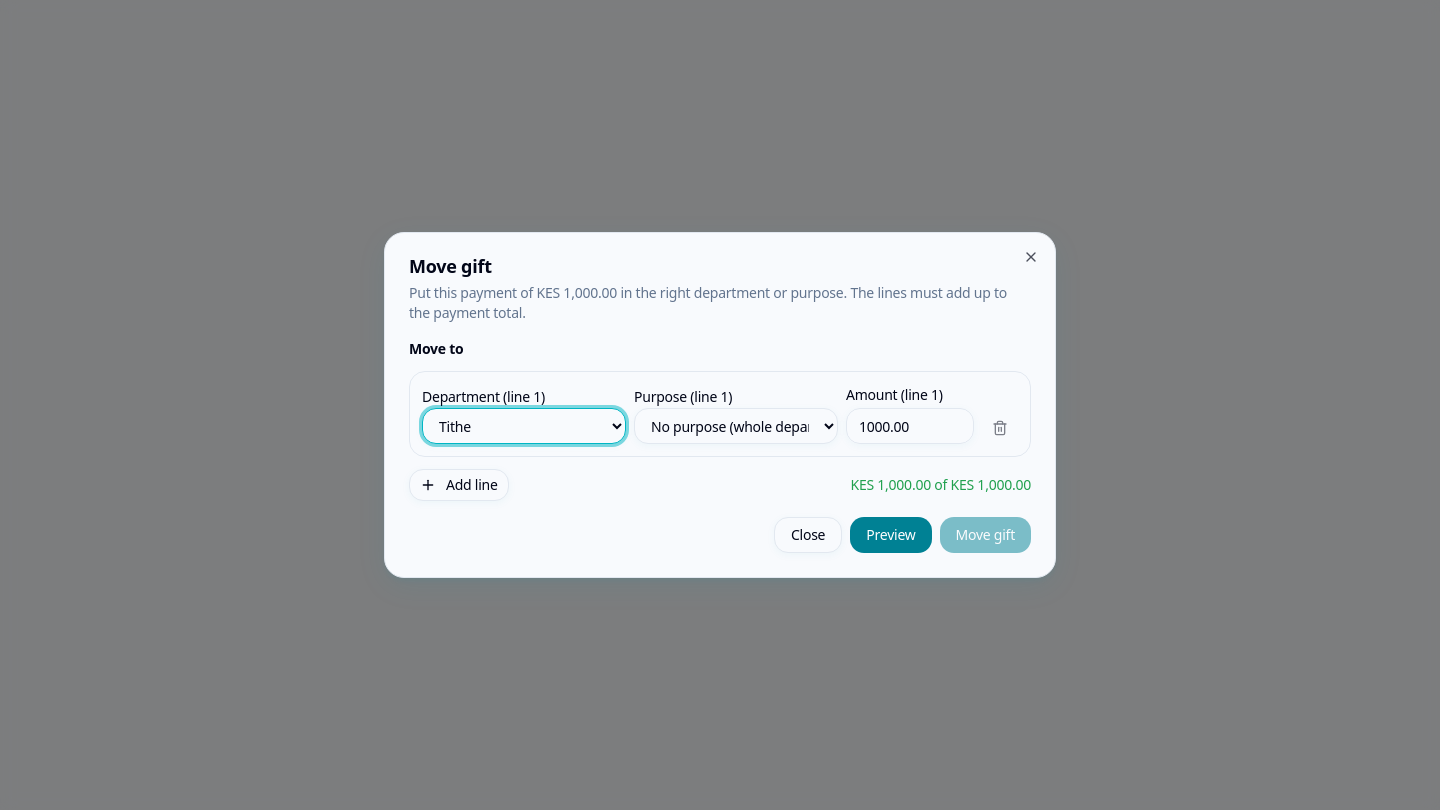
Test: MoveGiftDialog › changing a line discards the preview
The image size is (1440, 810).
Select "Building Fund" in the dropdown labelled "Department (line 1)": (524, 426) left=422, top=408, right=626, bottom=444
Select "Roof" in the dropdown labelled "Purpose (line 1)": (736, 426) left=634, top=408, right=838, bottom=444
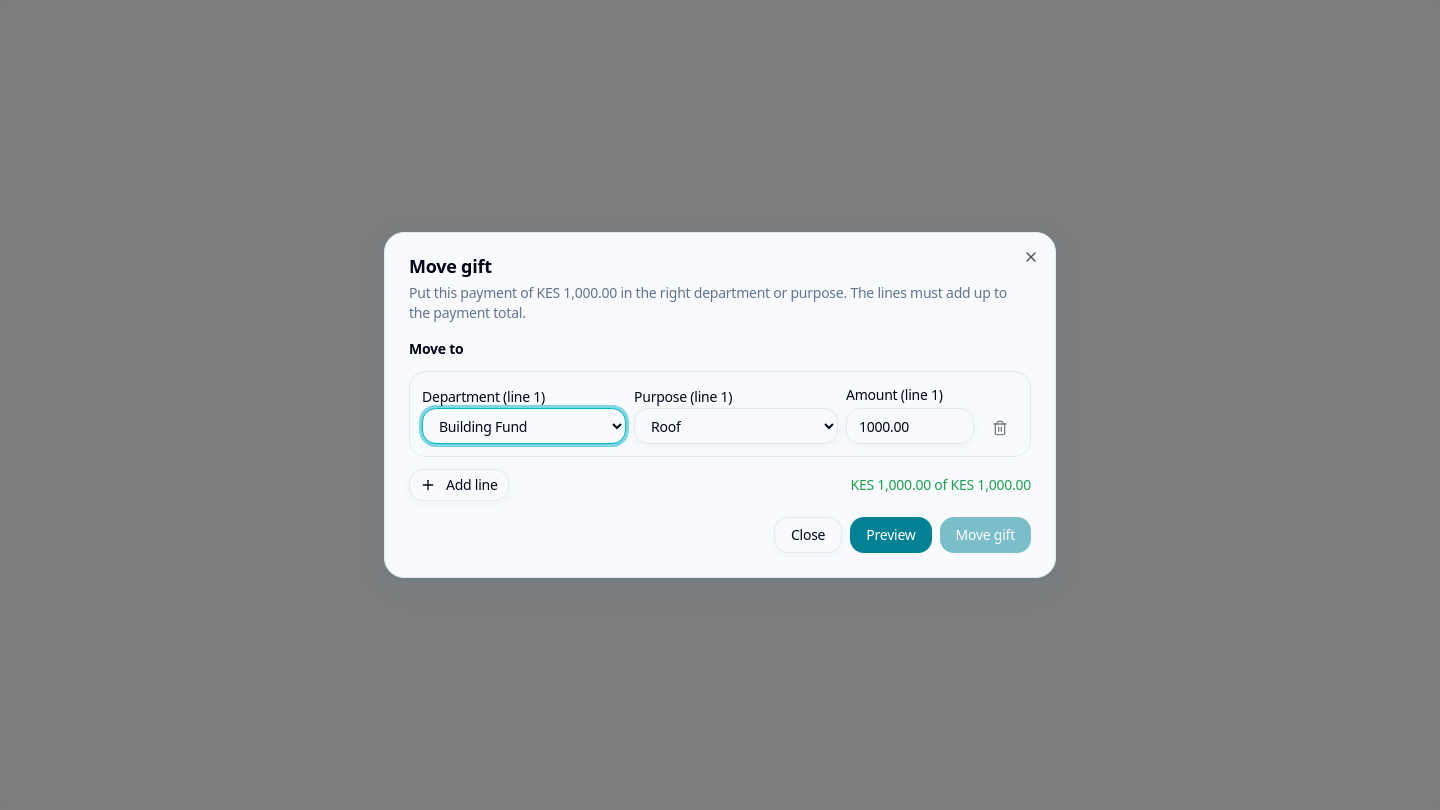
Replace the text in the field labelled "Amount (line 1)" with "600": (910, 426) left=846, top=408, right=974, bottom=444
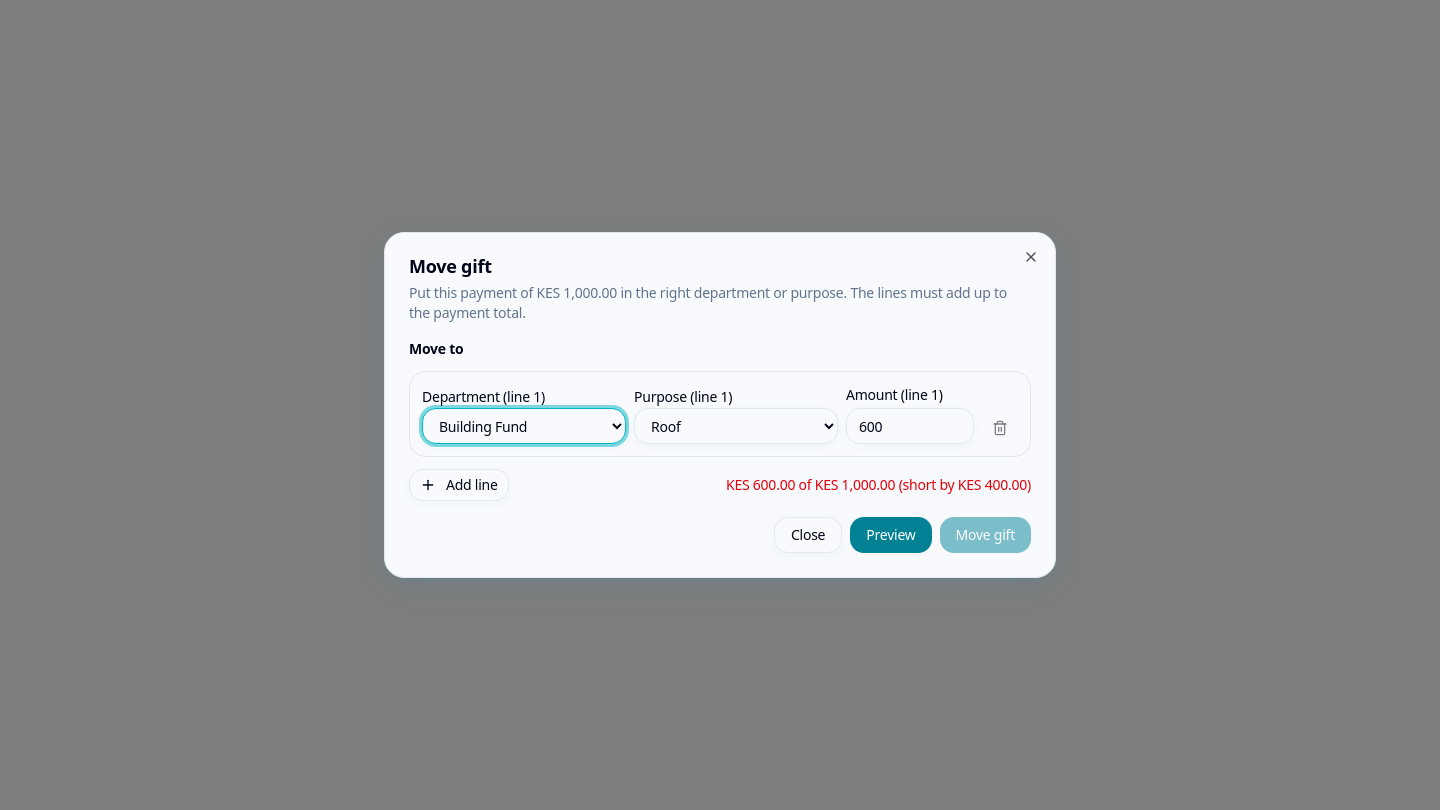
Click the button "Add line": (459, 485) left=409, top=469, right=509, bottom=501
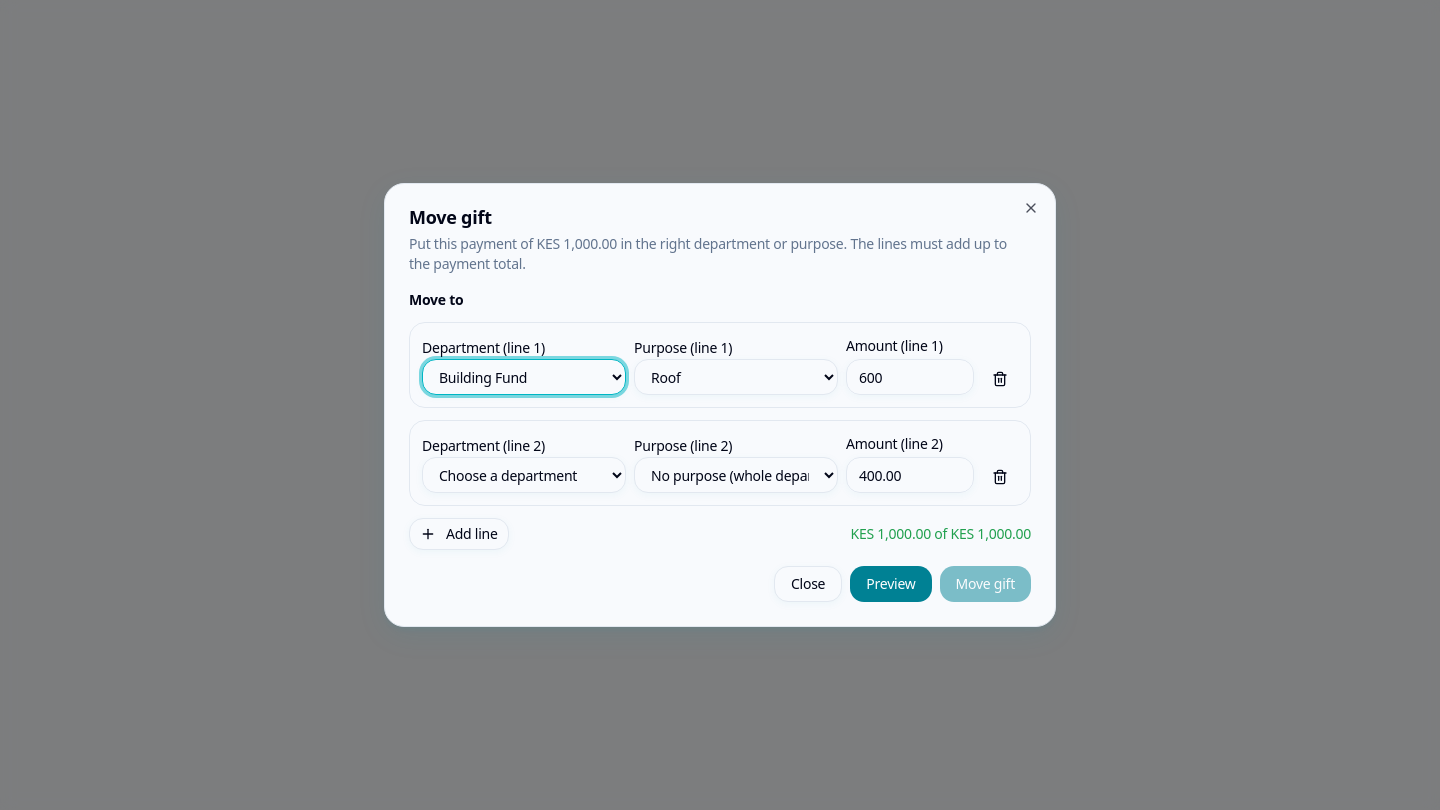
Select "Youth" in the dropdown labelled "Department (line 2)": (524, 475) left=422, top=457, right=626, bottom=493
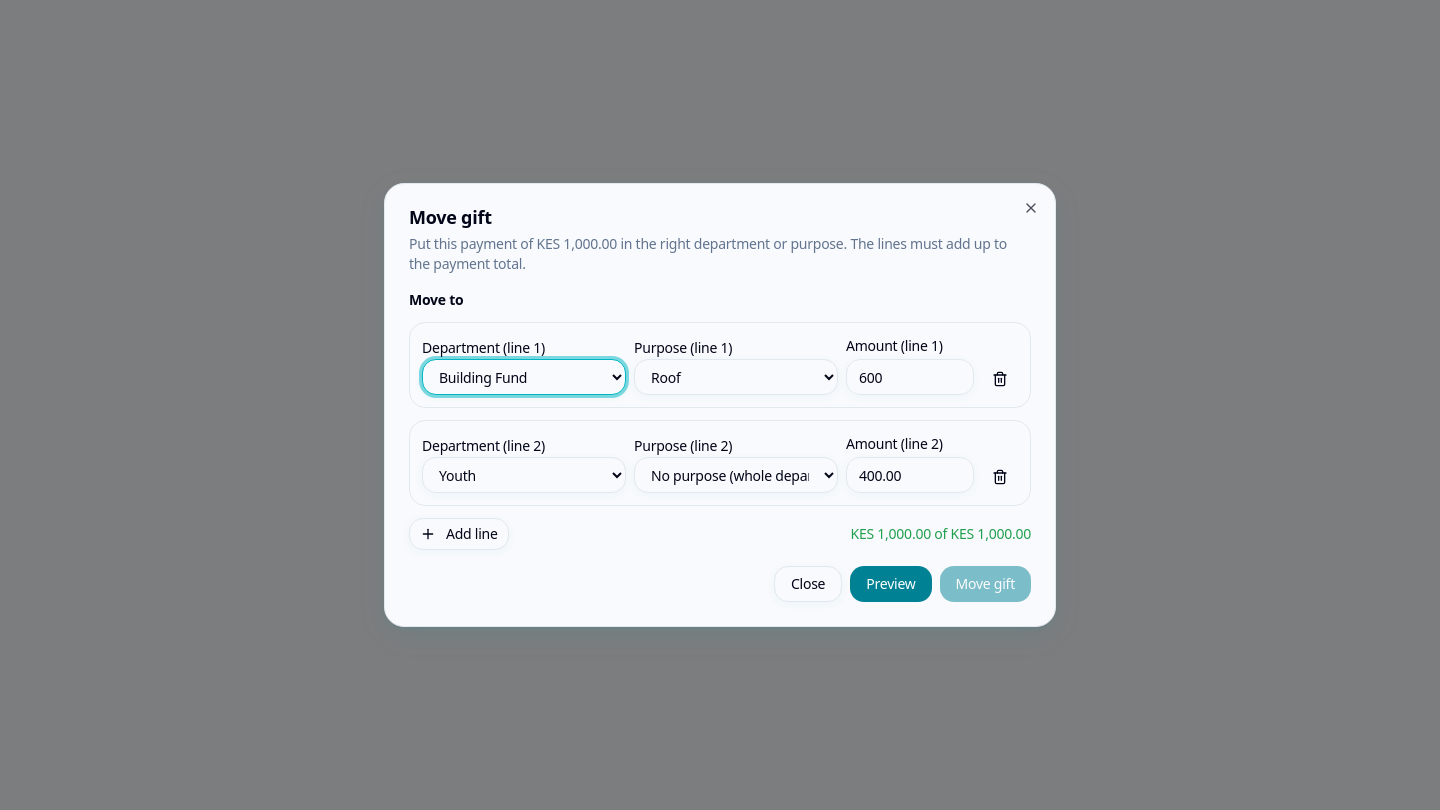
Click the button "Preview": (891, 584) left=850, top=566, right=932, bottom=602
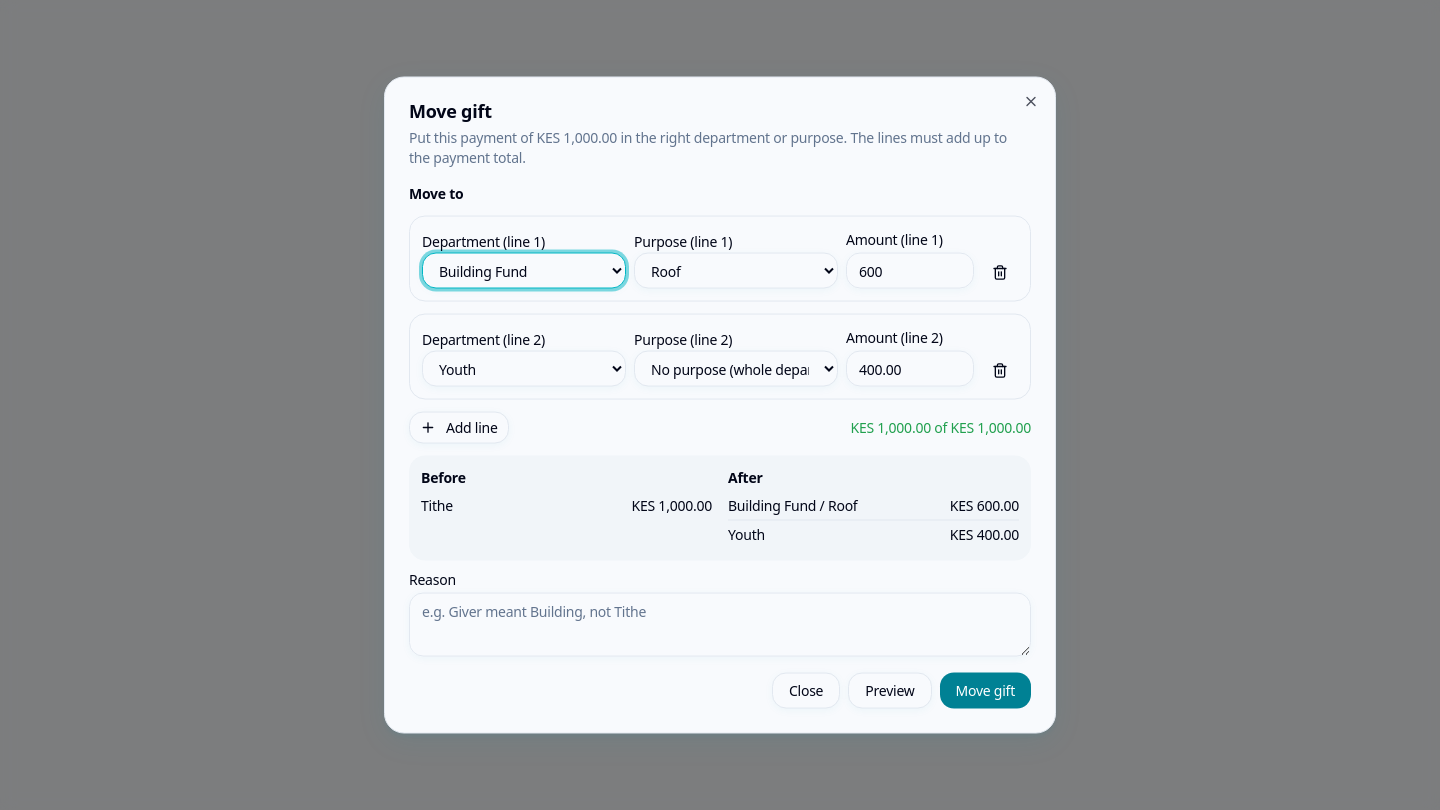
Result: the element with test id "move-gift-preview" is shown at left=409, top=456, right=1031, bottom=560
Replace the text in the field labelled "Amount (line 1)" with "601": (910, 270) left=846, top=252, right=974, bottom=288
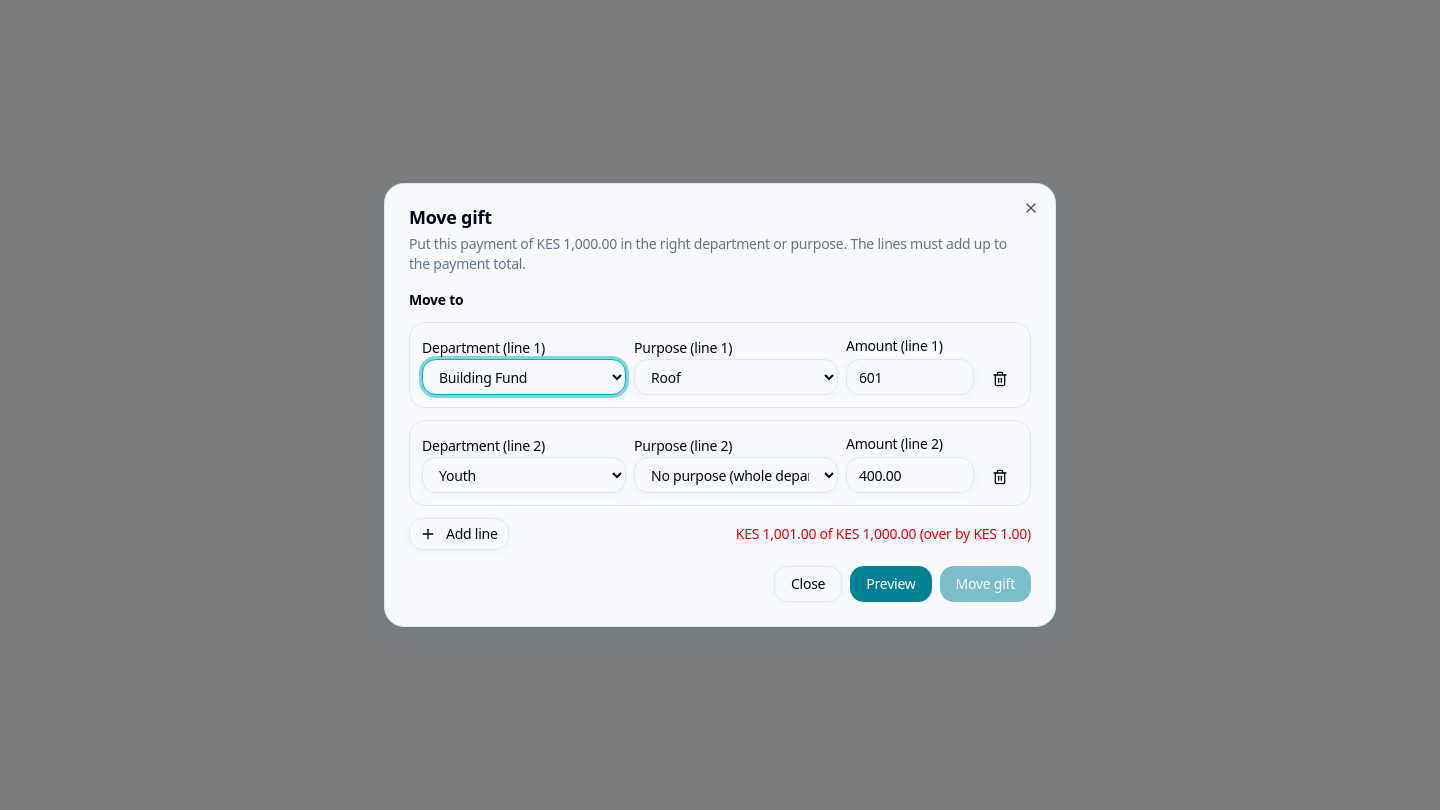
Result: the element with test id "move-gift-preview" is gone
Result: the button "Move gift" is disabled at left=940, top=566, right=1031, bottom=602
